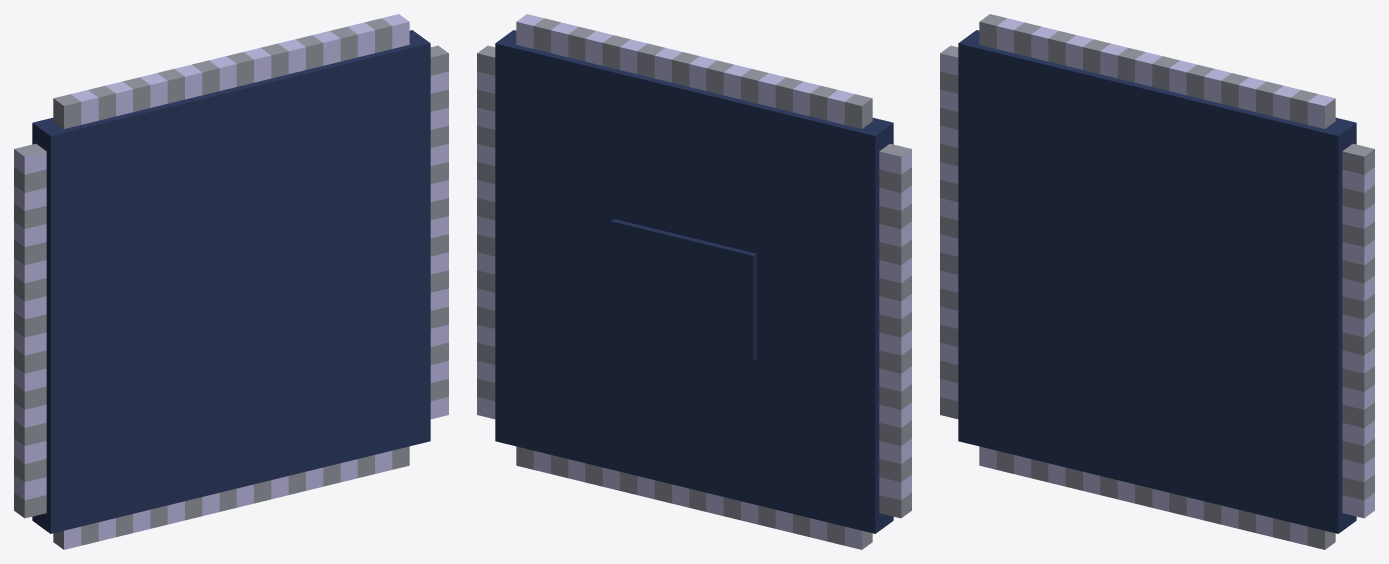
Rendered from 1997_microprocessor_v2.fbx.
3 views of the same model, side by side, from view 1: azimuth 30°, elevation 25°; view 2: azimuth 150°, elevation 25°; view 3: azimuth 330°, elevation 25° (orthographic).
Visible parts, largest first — view 1: 1997_microprocessor; view 2: 1997_microprocessor; view 3: 1997_microprocessor.
Boxes of the visible parts, <box> form: 1997_microprocessor: <box>14,14,448,549</box>; 1997_microprocessor: <box>477,14,911,549</box>; 1997_microprocessor: <box>940,14,1374,549</box>.
Bounding box in the file's own units: 187 × 187 × 16.31.
